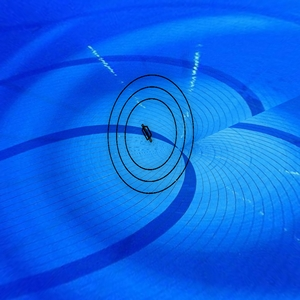circle: (100, 72, 197, 196)
submarine: (137, 122, 160, 149)
